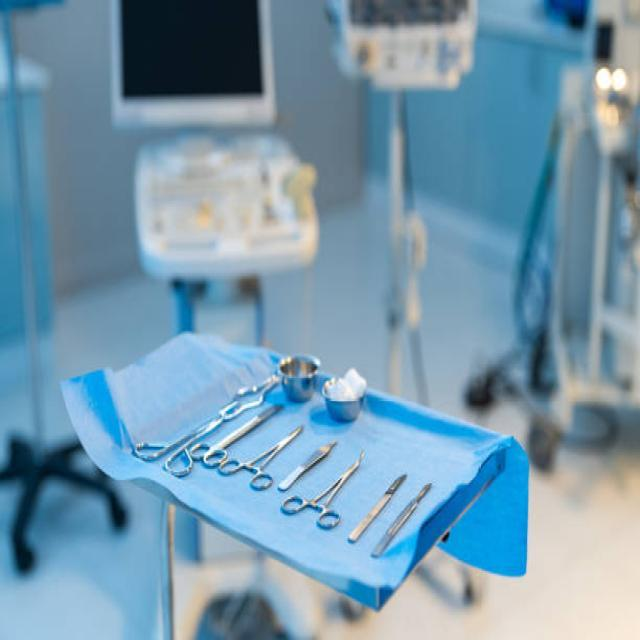Monitor: (112, 0, 288, 130)
tools_table: (51, 336, 529, 640)
